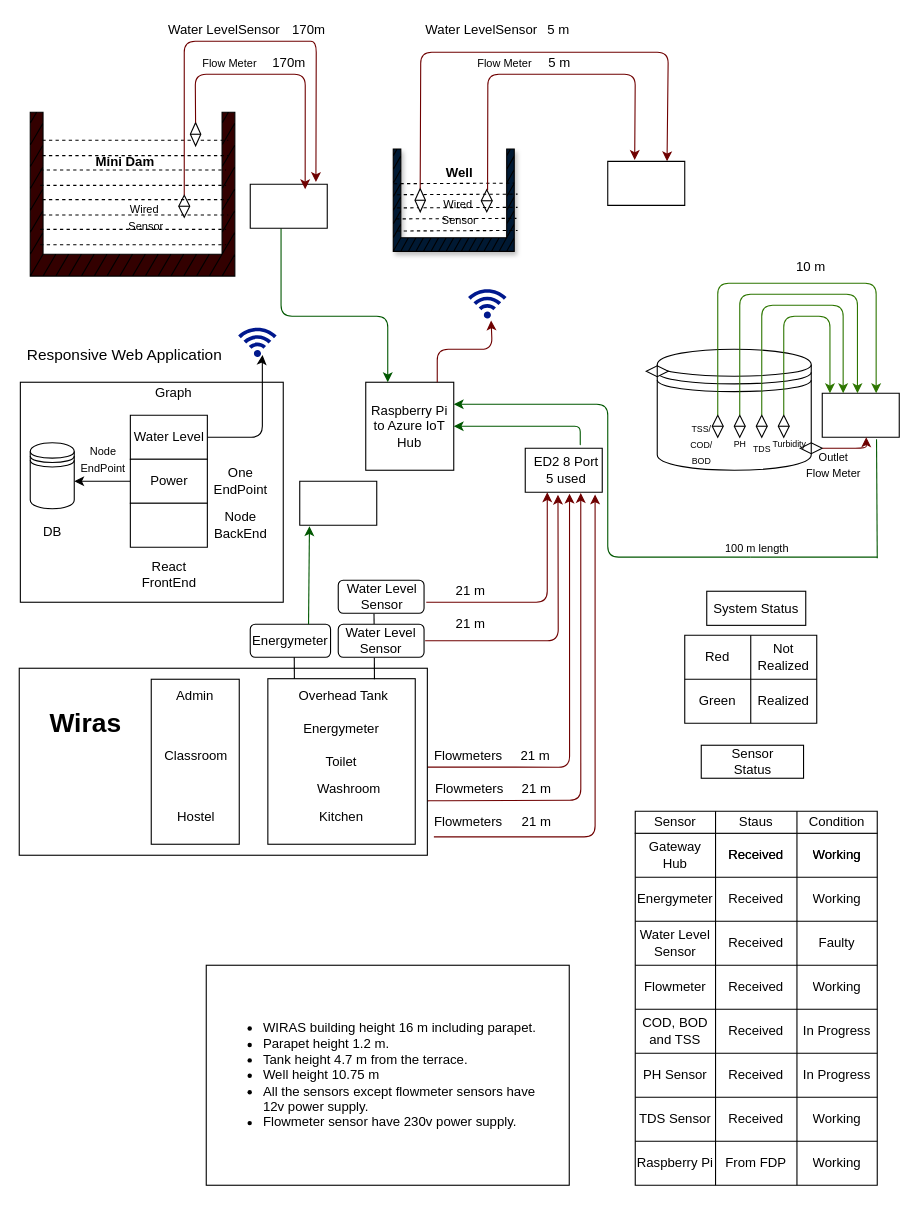
Image size: 919x1205. Some labels were removed from this diagram. The centre of each missing label's shape, as x and y in pixels:
ED1 8 Port 1 used: (338,502)
ED1 8 Port 2 used: (646,182)
ED1 8 Port 5 used: (860,414)
ED2 8 Port 2 used: (288,205)
Water Sensors: (168,524)
